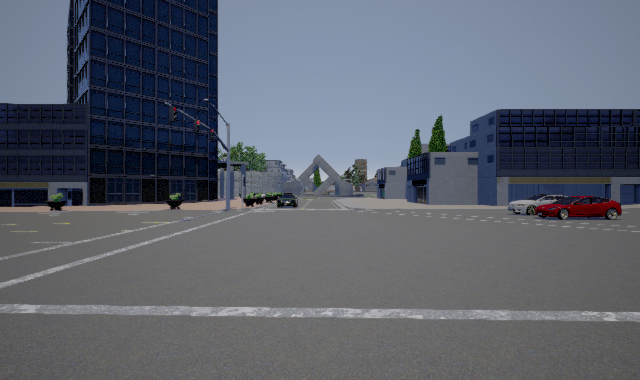traffic_light: (170, 106, 178, 122), (194, 120, 201, 133), (209, 128, 215, 140)
vehicle: (538, 195, 622, 220), (508, 192, 560, 213), (277, 193, 298, 208)
